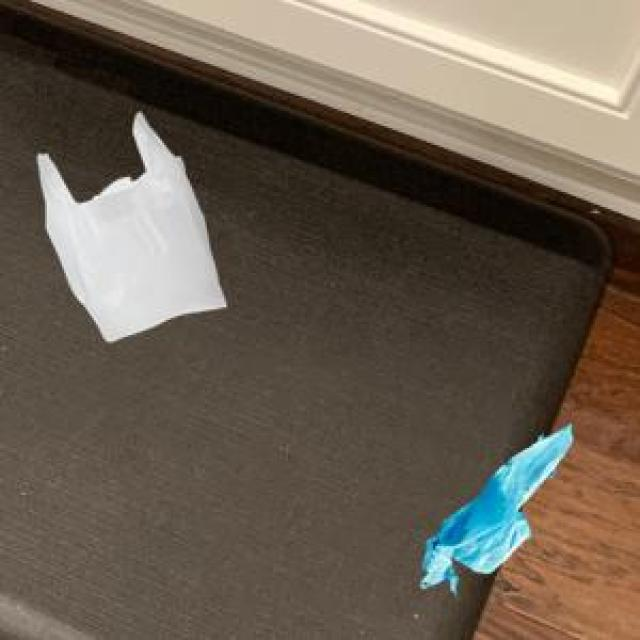waste: (38, 112, 226, 341), (420, 426, 571, 592)
